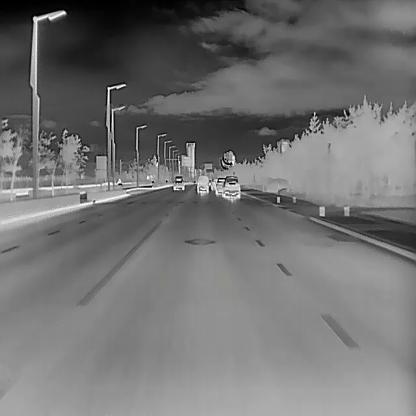car: (222, 176, 240, 197), (213, 177, 226, 194), (196, 175, 208, 193), (172, 175, 184, 191), (211, 176, 221, 190)
